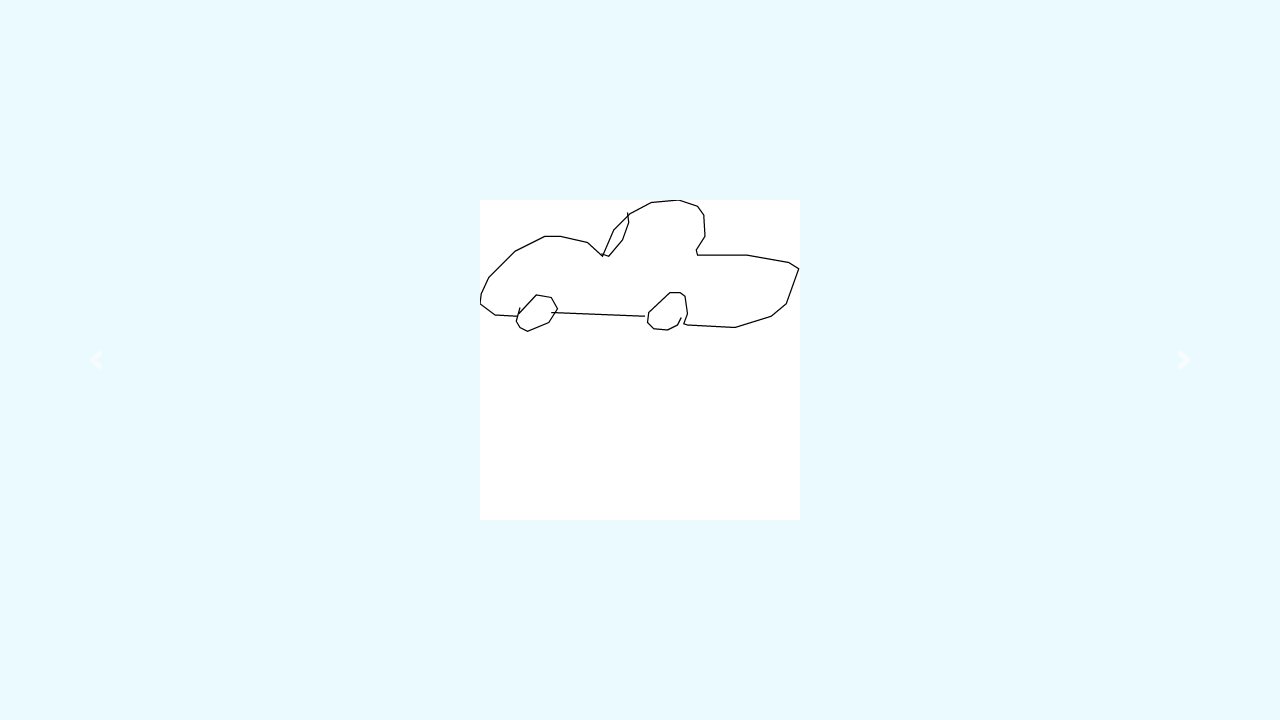car: (477, 196, 802, 341)
